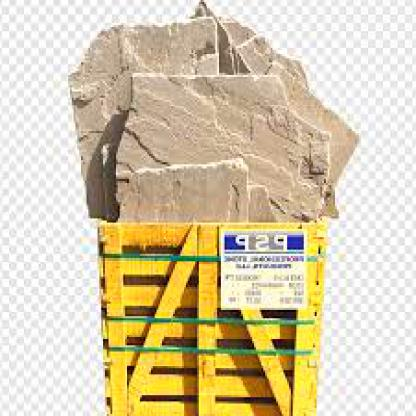Metamorphic_Quartize: (59, 5, 363, 218)
